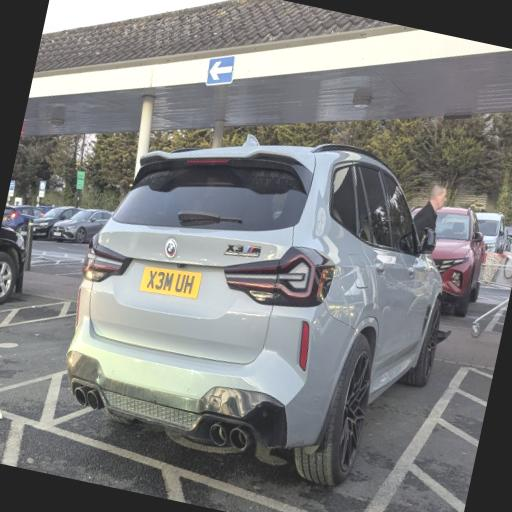numberplates: (140, 267, 201, 298), (55, 232, 61, 236), (2, 217, 7, 221)
